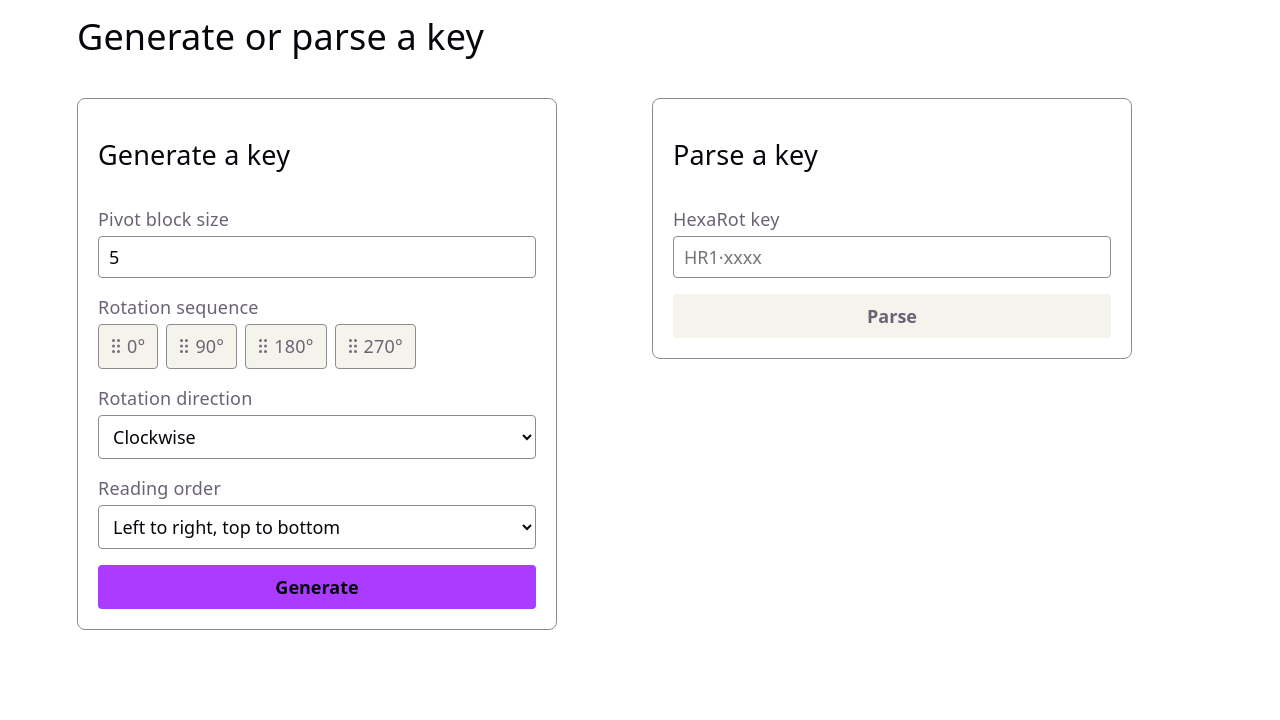
Test: KeyView › key parser section › displays a clear error message for a malformed key (client-side validation)
This screenshot has width=1280, height=720.
Type "not-a-valid-key" into the field labelled "HexaRot key" at coordinates (892, 257), box [673,236,1111,278]
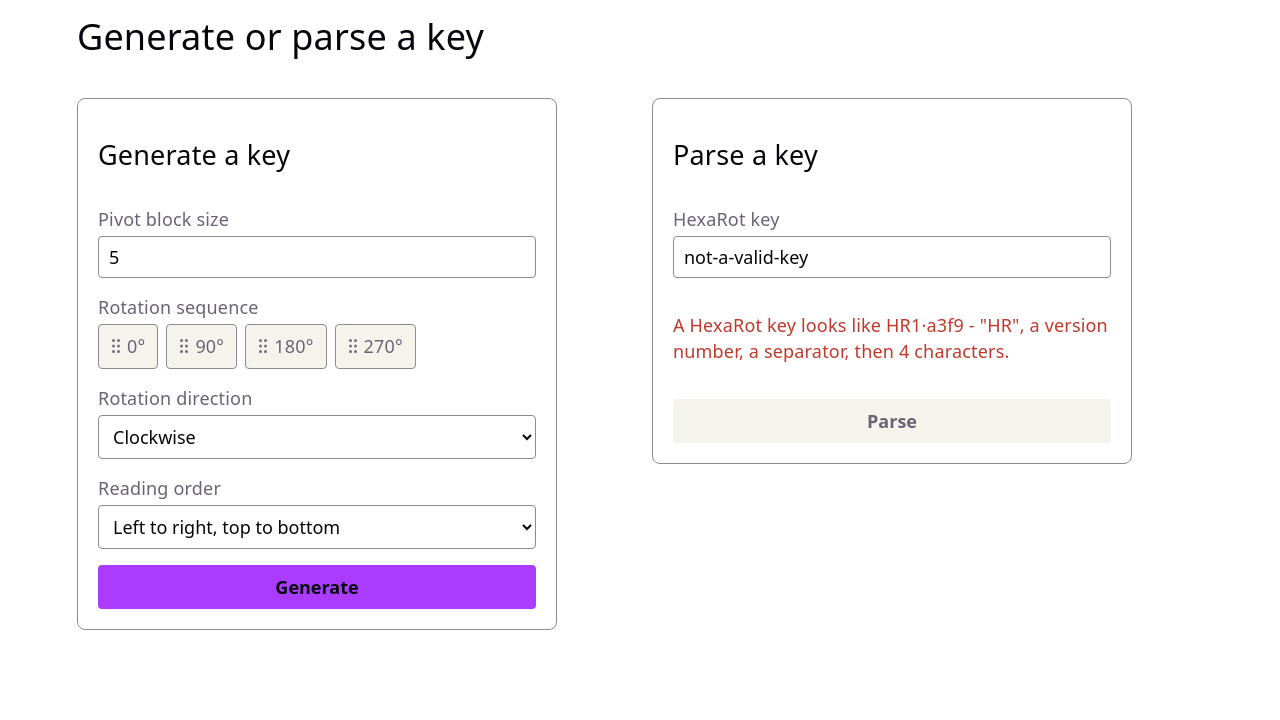
Expected: the message with class "key-parser-form__error" is shown, [673,312,1111,364]
